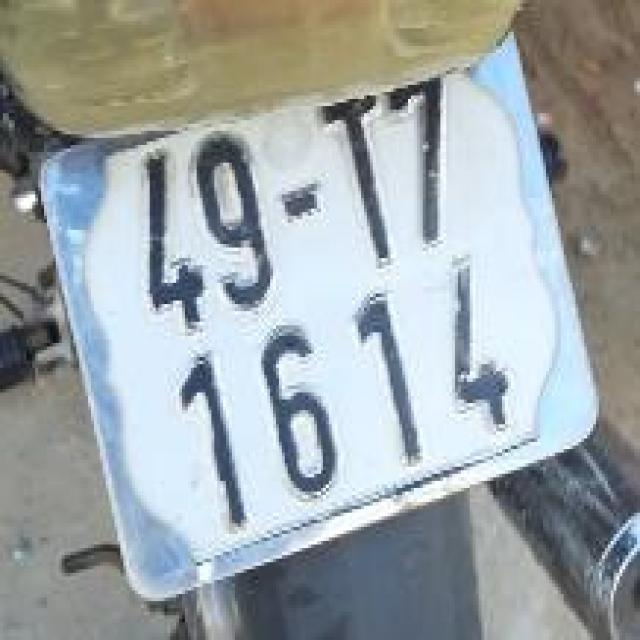1: (338, 277, 447, 500), (162, 350, 270, 557)
4: (416, 242, 534, 449), (124, 144, 227, 349)
6: (235, 304, 365, 527)
7: (378, 65, 494, 271)
9: (177, 107, 283, 324)
T: (307, 72, 426, 286)
